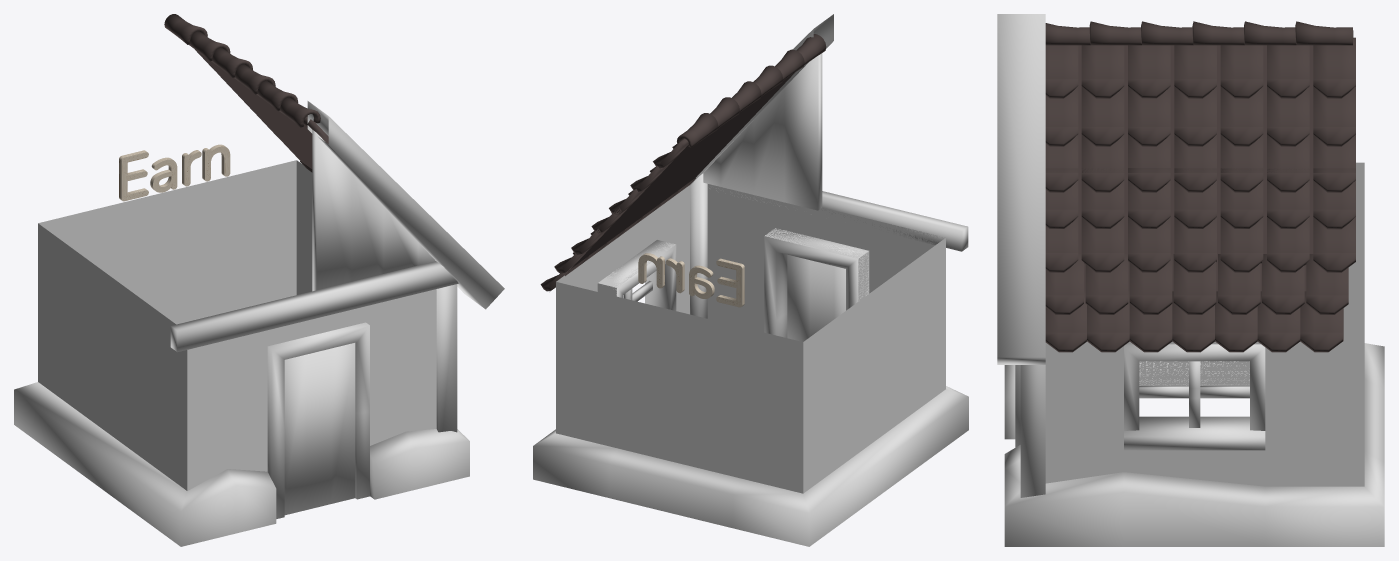
The model's file is home.glb.
3 views of the same model, side by side, from view 1: azimuth 30°, elevation 25°; view 2: azimuth 150°, elevation 25°; view 3: azimuth 270°, elevation 25° (orthographic). The views are drawn at different scales.
Visible parts, largest first — view 1: Cube, Cube.004, Cube.006, Cube.002, Plane.001, Cube.001, Cube.005, Plane, Text, Cube.003, Cylinder, Cylinder.005 (+4 smaller); view 2: Cube, Cube.004, Cube.002, Cube.005, Cube.003, Cube.006, Plane.001, Text, Cube.007, Plane, Cube.001, Cylinder.005 (+5 smaller); view 3: Cube, Cube.004, Cube.001, Cube.003, Cube.008, Cube.007, Plane, Plane.049, Plane.046, Plane.051, Plane.042, Plane.048 (+53 smaller).
Part boxes in pixels (bbox=[...]): Cube: bbox=[38, 160, 436, 490]; Cube.004: bbox=[14, 382, 469, 546]; Cube.006: bbox=[284, 343, 355, 515]; Cube.002: bbox=[312, 130, 435, 291]; Plane.001: bbox=[170, 261, 458, 352]; Cube.001: bbox=[307, 101, 504, 309]; Cube.005: bbox=[267, 322, 369, 518]; Plane: bbox=[436, 284, 457, 432]; Text: bbox=[119, 144, 230, 201]; Cube.003: bbox=[195, 50, 312, 168]; Cylinder: bbox=[279, 97, 320, 127]; Cylinder.005: bbox=[164, 14, 207, 44]; Cube: bbox=[556, 184, 945, 493]; Cube.004: bbox=[533, 386, 968, 546]; Cube.002: bbox=[703, 53, 822, 210]; Cube.005: bbox=[764, 228, 869, 337]; Cube.003: bbox=[549, 73, 794, 291]; Cube.006: bbox=[787, 254, 845, 341]; Plane.001: bbox=[709, 188, 968, 251]; Text: bbox=[638, 253, 744, 307]; Cube.007: bbox=[607, 240, 676, 310]; Plane: bbox=[690, 173, 707, 318]; Cube.001: bbox=[690, 14, 833, 185]; Cylinder.005: bbox=[677, 113, 718, 147]; Cube: bbox=[1045, 162, 1364, 486]; Cube.004: bbox=[1004, 343, 1384, 546]; Cube.001: bbox=[997, 14, 1045, 364]; Cube.003: bbox=[1078, 45, 1343, 341]; Cube.008: bbox=[1124, 416, 1265, 450]; Cube.007: bbox=[1124, 344, 1265, 430]; Plane: bbox=[1020, 365, 1045, 497]; Plane.049: bbox=[1220, 45, 1263, 98]; Plane.046: bbox=[1081, 45, 1124, 98]; Plane.051: bbox=[1313, 37, 1355, 98]; Plane.042: bbox=[1220, 86, 1263, 146]; Plane.048: bbox=[1174, 45, 1216, 98].
Size of the model in its own units: 5.48 by 6.47 by 5.01.
Materials: 3 (1 with a texture image).
